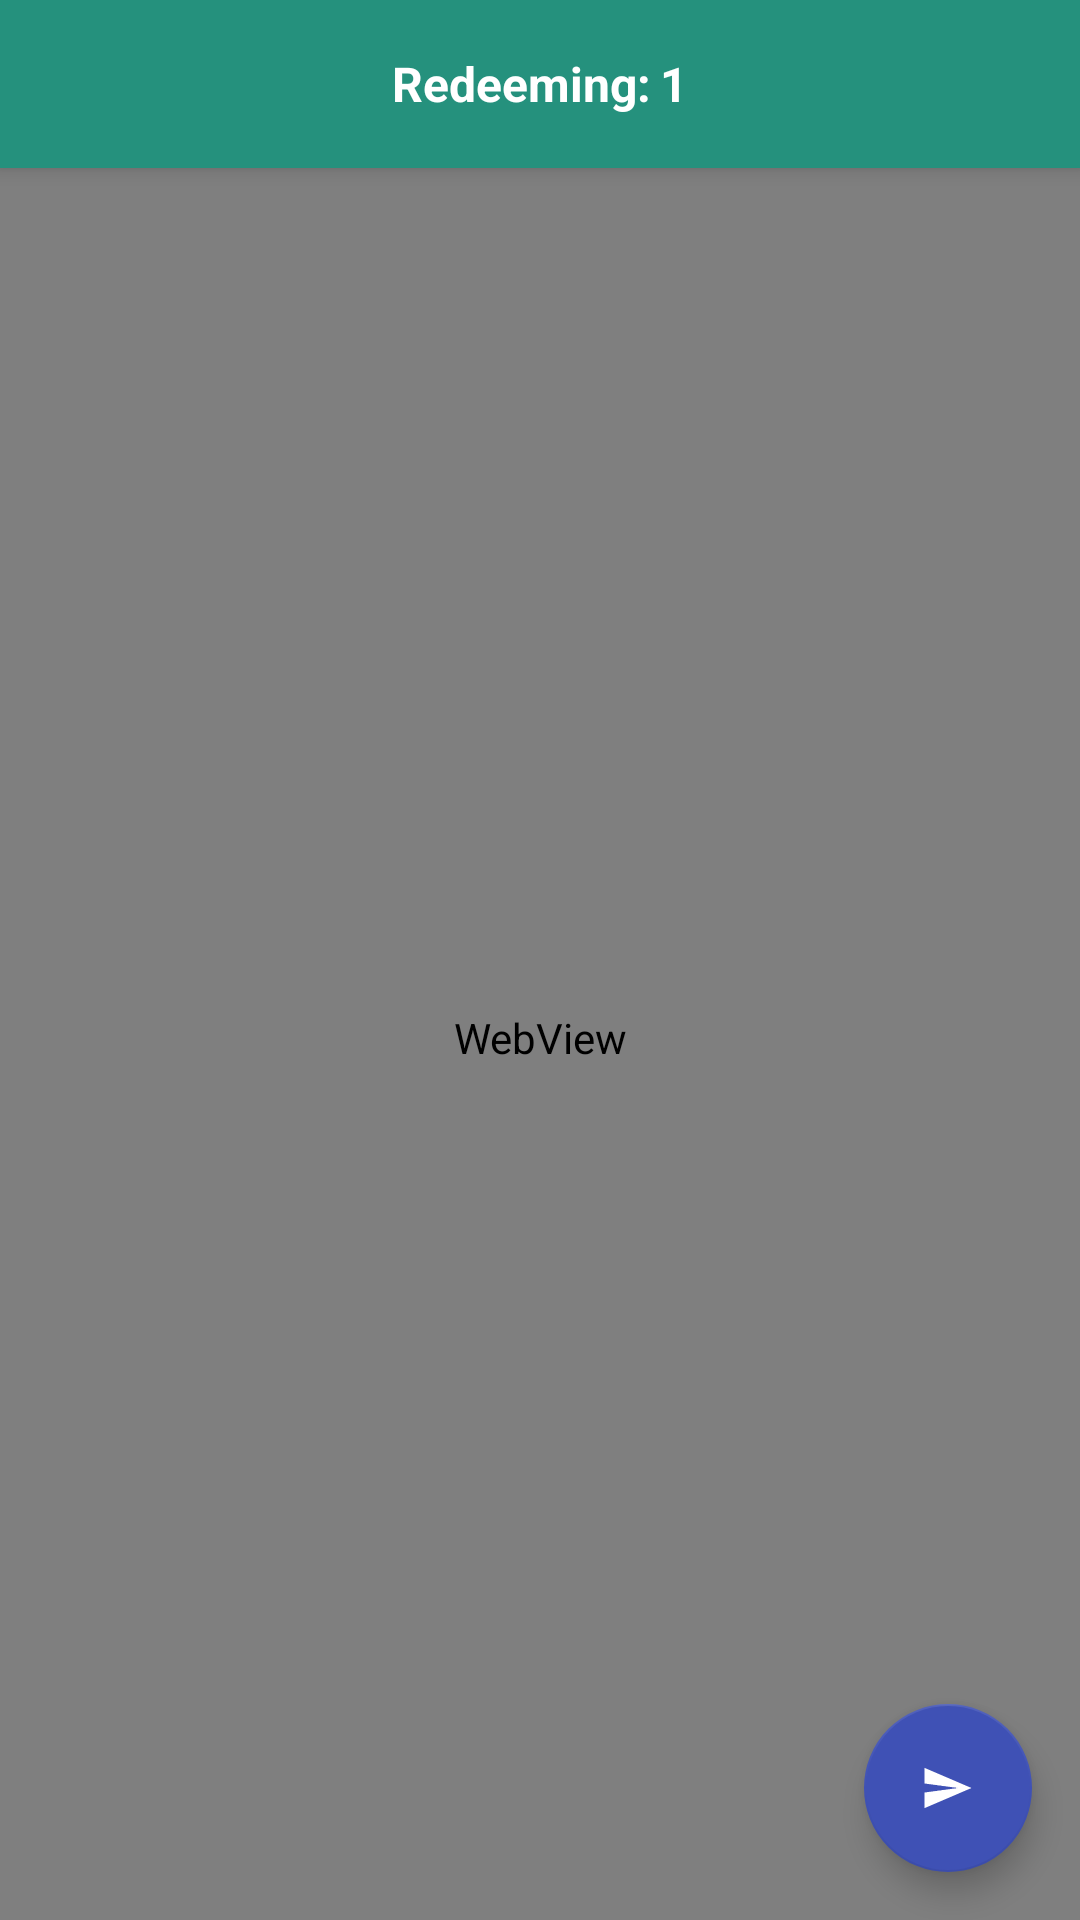

Icon bounding boxes for this 1080px×1920px phone screenshot, format (x1, y1, x2, y2):
send: (864, 1704, 1032, 1872)
